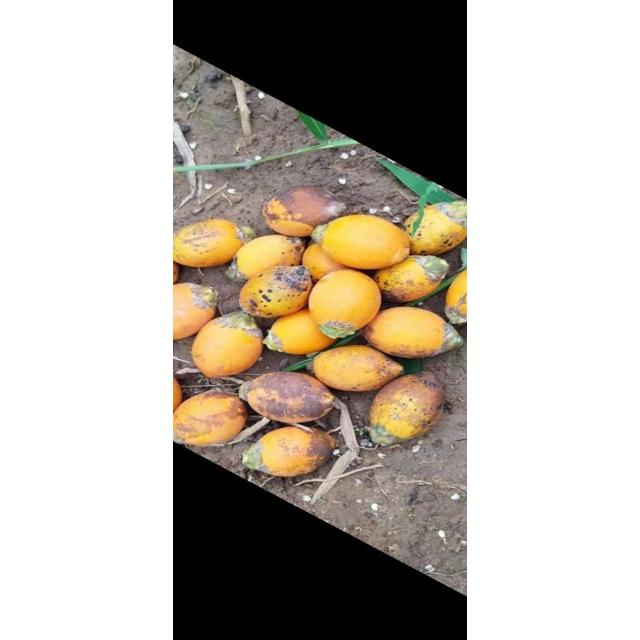good: (180, 213, 444, 467)
